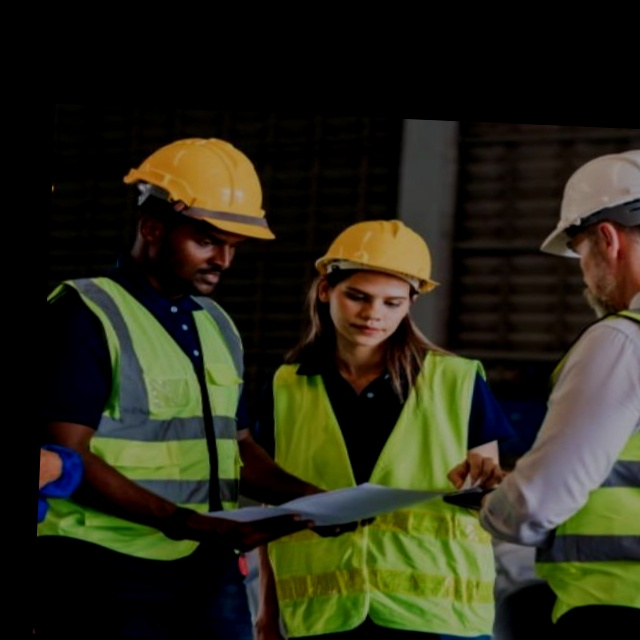Con_Casco: (122, 132, 278, 297), (311, 215, 443, 344), (541, 145, 640, 309)
Con_Chaleco: (260, 347, 495, 640), (36, 280, 243, 555), (533, 275, 640, 627)
